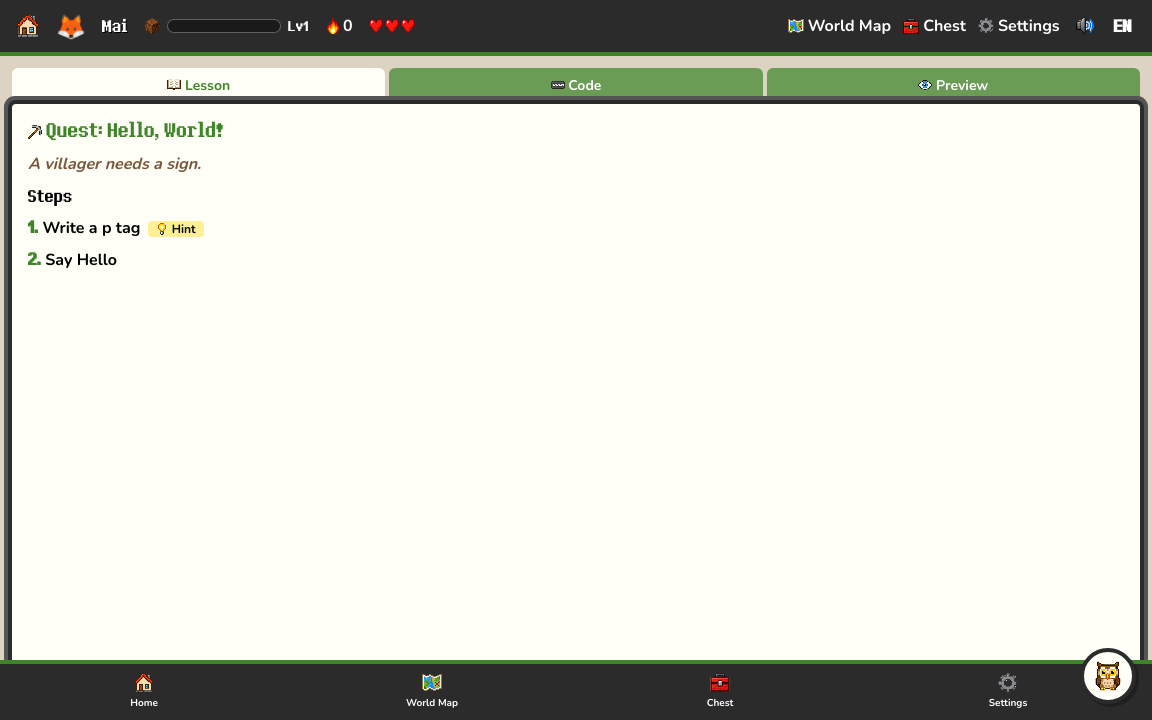
QuestScreen › on phones, a failed check stays on the Code tab and floats the error there
This screenshot has width=1152, height=720.
Click the tab "Code". click: (576, 86)
box: top-left (389, 68), bottom-right (763, 104)
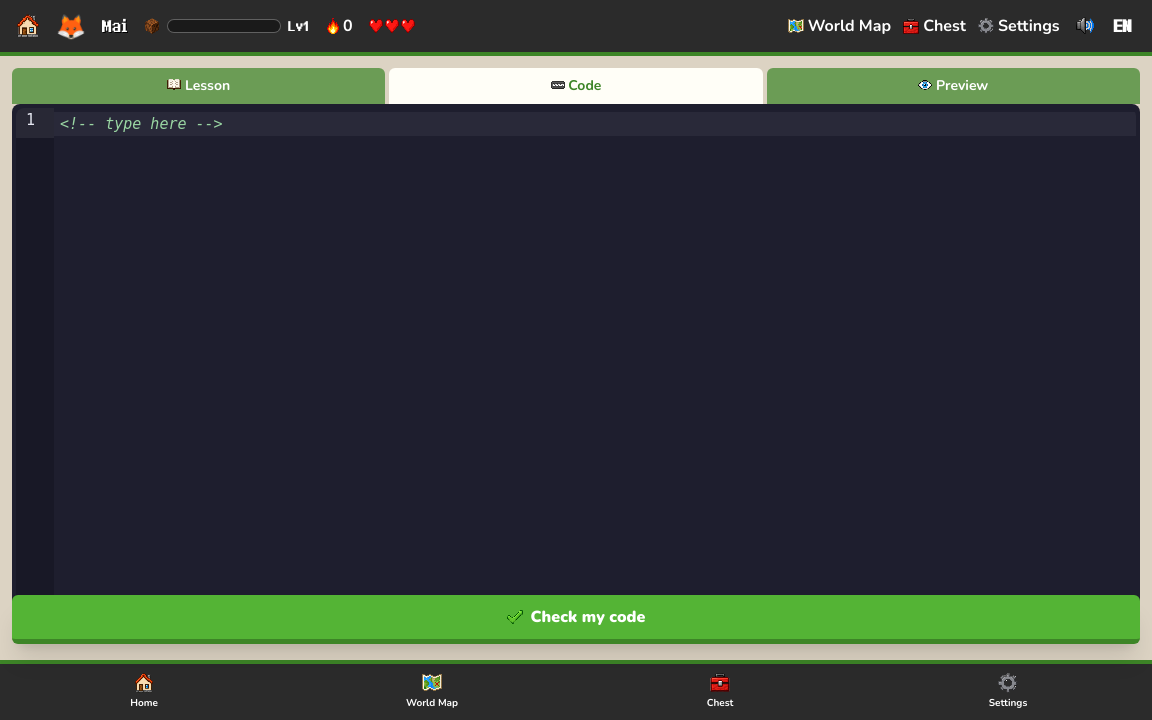
Click the button "Check my code". click: (576, 620)
box: top-left (12, 595), bottom-right (1140, 644)
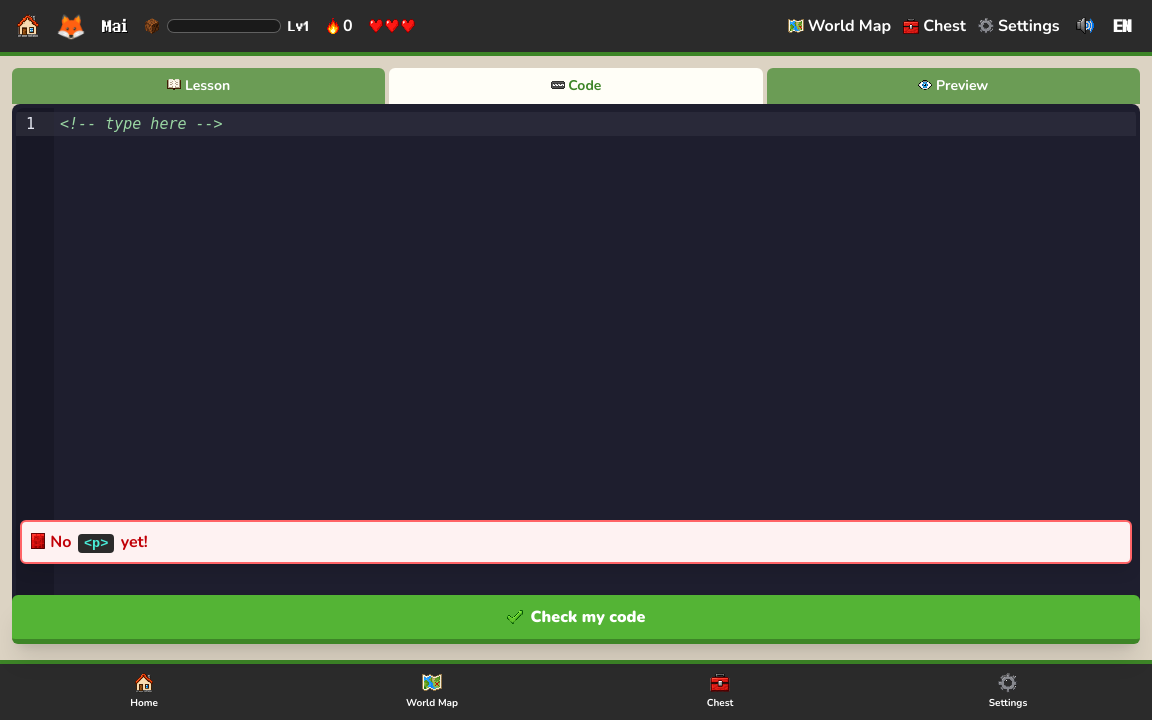
Expected: the message reads "No <p> yet!", top-left (20, 520), bottom-right (1132, 564)
